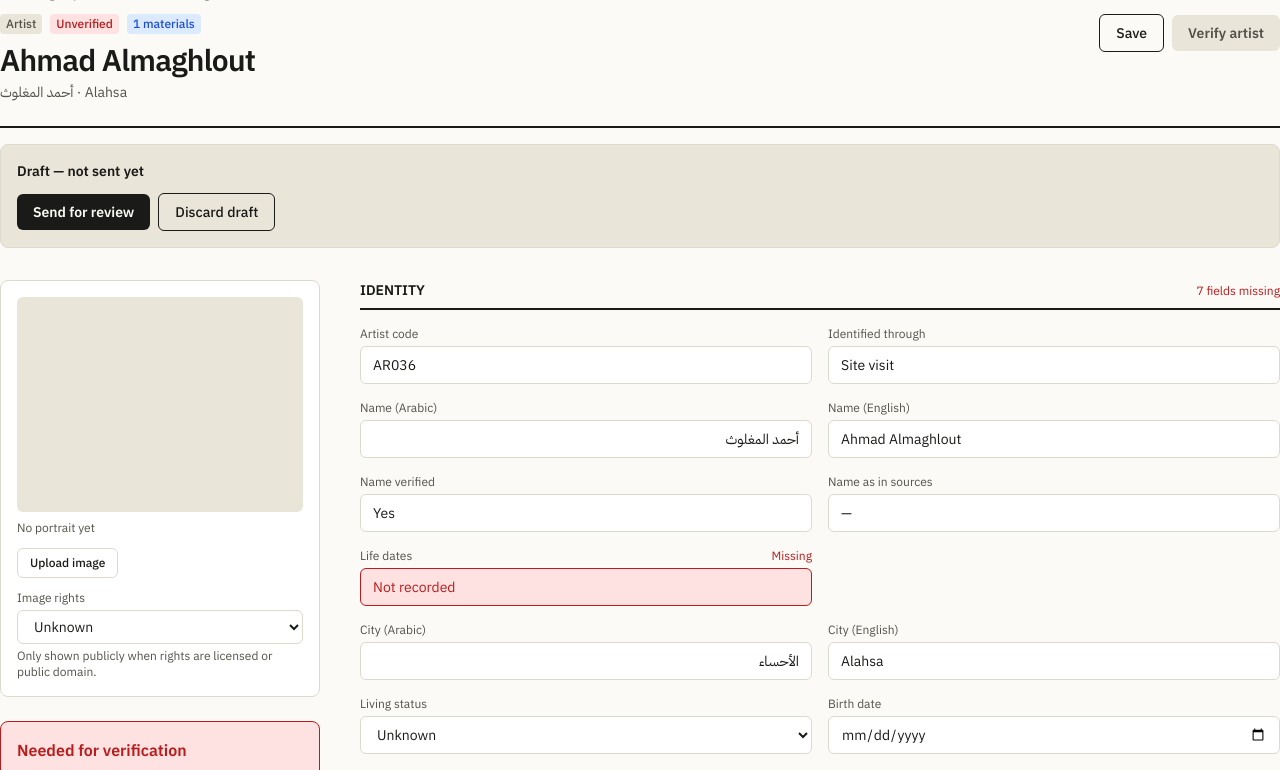
Test: ArtistCurationPage › draft mode (proposals.submit) › discarding the draft resets the form to live values
Click the button with test id "discard-draft": point(217, 212) [158,193,275,231]
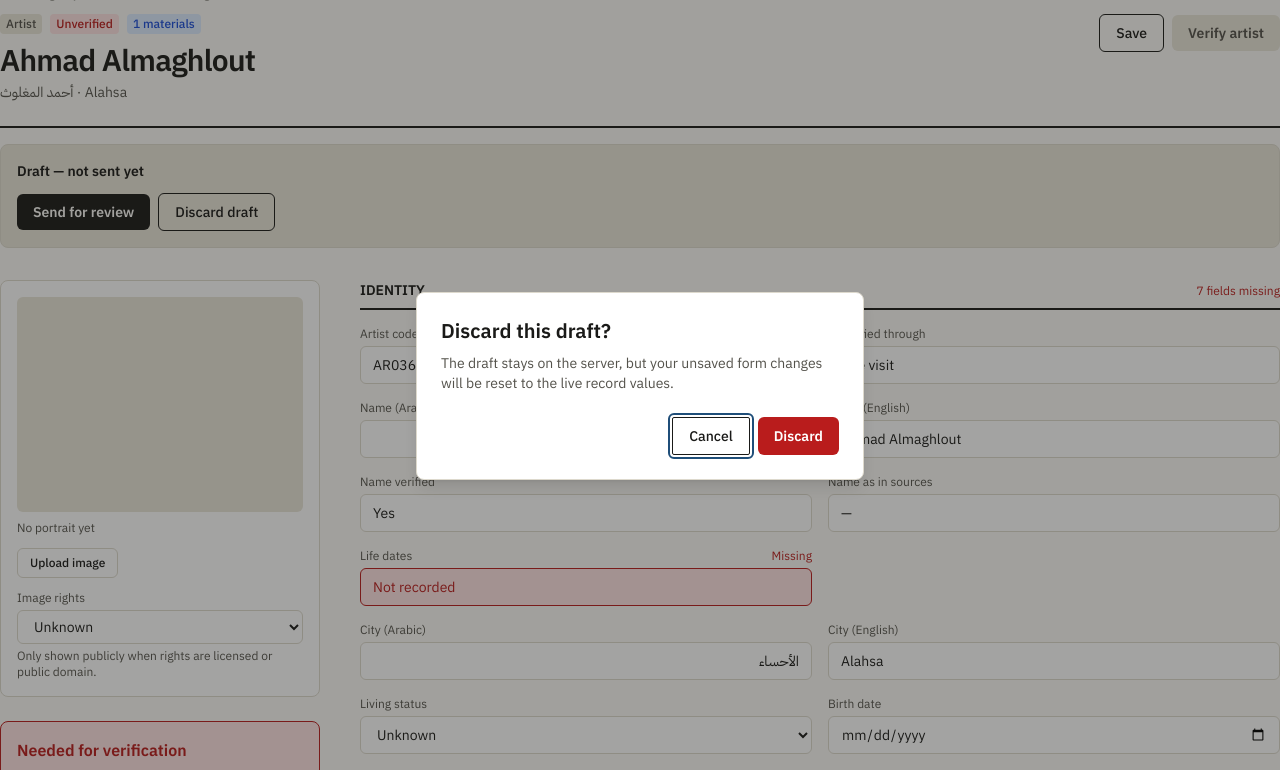
Click the button with test id "confirm-dialog-confirm": point(798, 436) [758,417,839,455]
(page scrolled)
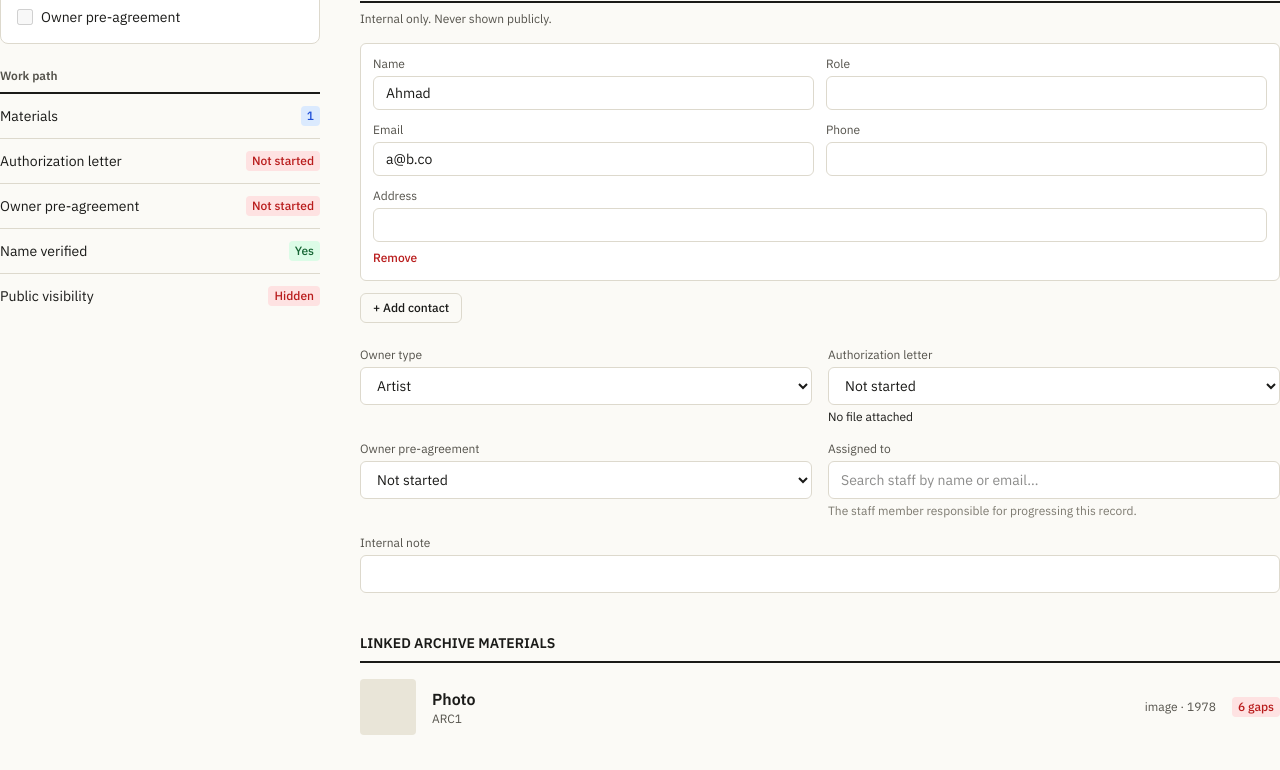
Now the dropdown labelled "Owner type" shows "Artist", box [360,367,812,405]
